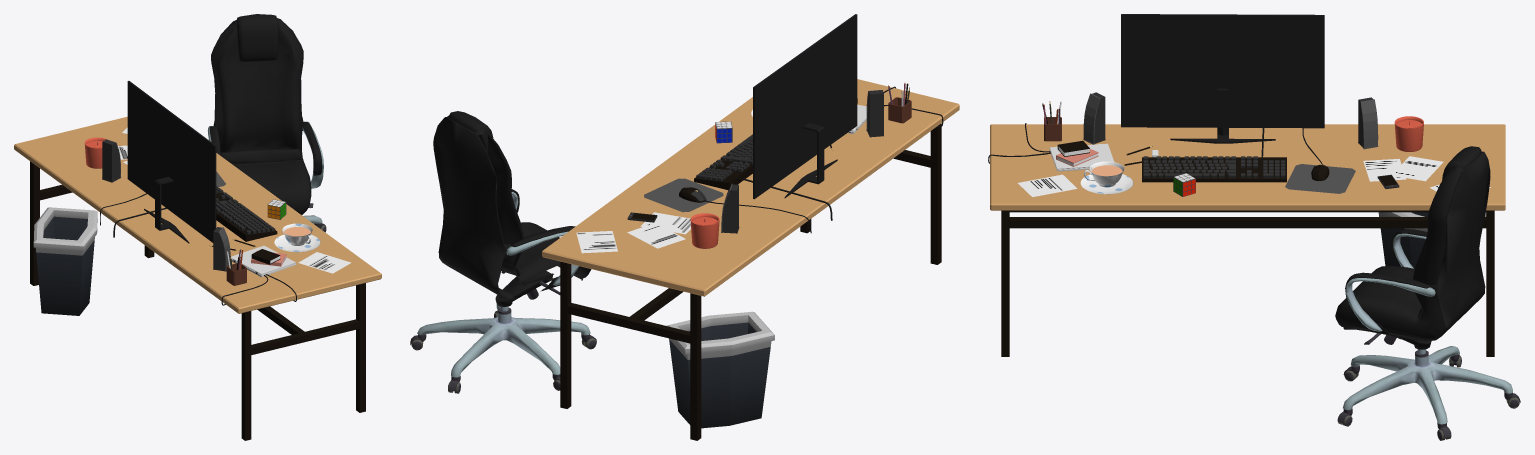
The model's file is desk.glb.
3 renders of one model, left to right at view 1: azimuth 30°, elevation 25°; view 2: azimuth 150°, elevation 25°; view 3: azimuth 270°, elevation 25°, orthographic. The views are drawn at different scales.
Parts seen in each view (by area): view 1: Desk_Desk_0.001, officeChair, Cube_0.003, Cube.001_2, Desk, PC_Keyboard, PC_Speaker, Paper, Notebook_Notebook_0, Object_2.004, pCylinder1, Books_Books_0 (+1 smaller); view 2: Desk_Desk_0.001, officeChair, Cube_0.003, Cube.001_2, Desk, Paper, PC_Keyboard, PC_Speaker, Mousepad, Object_2.004; view 3: Desk_Desk_0.001, Cube_0.003, officeChair, Desk, PC_Keyboard, Paper, PC_Speaker, Mousepad, Cube.001_2, Object_2.004, Books_Books_0, Notebook_Notebook_0 (+1 smaller).
Part boxes in pixels (x1=…): Desk_Desk_0.001: x1=14, y1=116, x2=381, y2=313; officeChair: x1=207, y1=14, x2=326, y2=232; Cube_0.003: x1=127, y1=81, x2=216, y2=243; Cube.001_2: x1=33, y1=207, x2=97, y2=315; Desk: x1=30, y1=161, x2=365, y2=440; PC_Keyboard: x1=216, y1=186, x2=277, y2=241; PC_Speaker: x1=102, y1=139, x2=230, y2=271; Paper: x1=118, y1=127, x2=351, y2=273; Notebook_Notebook_0: x1=231, y1=245, x2=296, y2=277; Object_2.004: x1=84, y1=137, x2=106, y2=168; pCylinder1: x1=274, y1=234, x2=320, y2=252; Books_Books_0: x1=251, y1=249, x2=286, y2=266; Desk_Desk_0.001: x1=542, y1=79, x2=959, y2=296; officeChair: x1=410, y1=111, x2=596, y2=393; Cube_0.003: x1=753, y1=14, x2=857, y2=199; Cube.001_2: x1=666, y1=311, x2=774, y2=428; Desk: x1=560, y1=123, x2=941, y2=440; Paper: x1=576, y1=212, x2=690, y2=253; PC_Keyboard: x1=694, y1=134, x2=752, y2=190; PC_Speaker: x1=721, y1=90, x2=883, y2=233; Mousepad: x1=644, y1=178, x2=723, y2=212; Object_2.004: x1=690, y1=213, x2=719, y2=248; Desk_Desk_0.001: x1=990, y1=124, x2=1505, y2=210; Cube_0.003: x1=1121, y1=14, x2=1324, y2=143; officeChair: x1=1335, y1=146, x2=1520, y2=440; Desk: x1=1001, y1=210, x2=1494, y2=356; PC_Keyboard: x1=1142, y1=156, x2=1286, y2=182; Paper: x1=1018, y1=156, x2=1490, y2=196; PC_Speaker: x1=1083, y1=92, x2=1378, y2=149; Mousepad: x1=1285, y1=164, x2=1355, y2=193; Cube.001_2: x1=1378, y1=212, x2=1486, y2=268; Object_2.004: x1=1394, y1=116, x2=1423, y2=151; Books_Books_0: x1=1056, y1=140, x2=1098, y2=166; Notebook_Notebook_0: x1=1049, y1=143, x2=1114, y2=171.
Size of the model in its own units: 21.47 by 16.93 by 28.18.
23 materials, 17 textured.
